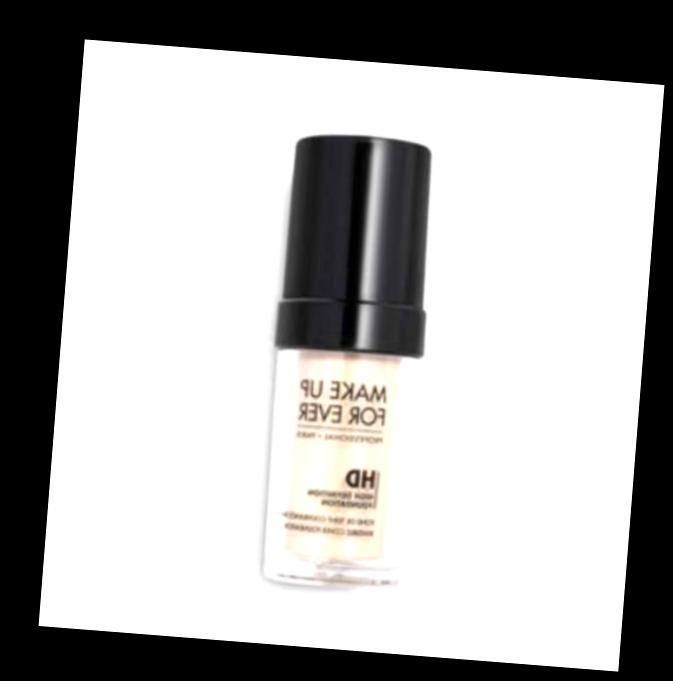cosmetic: (252, 129, 445, 593)
